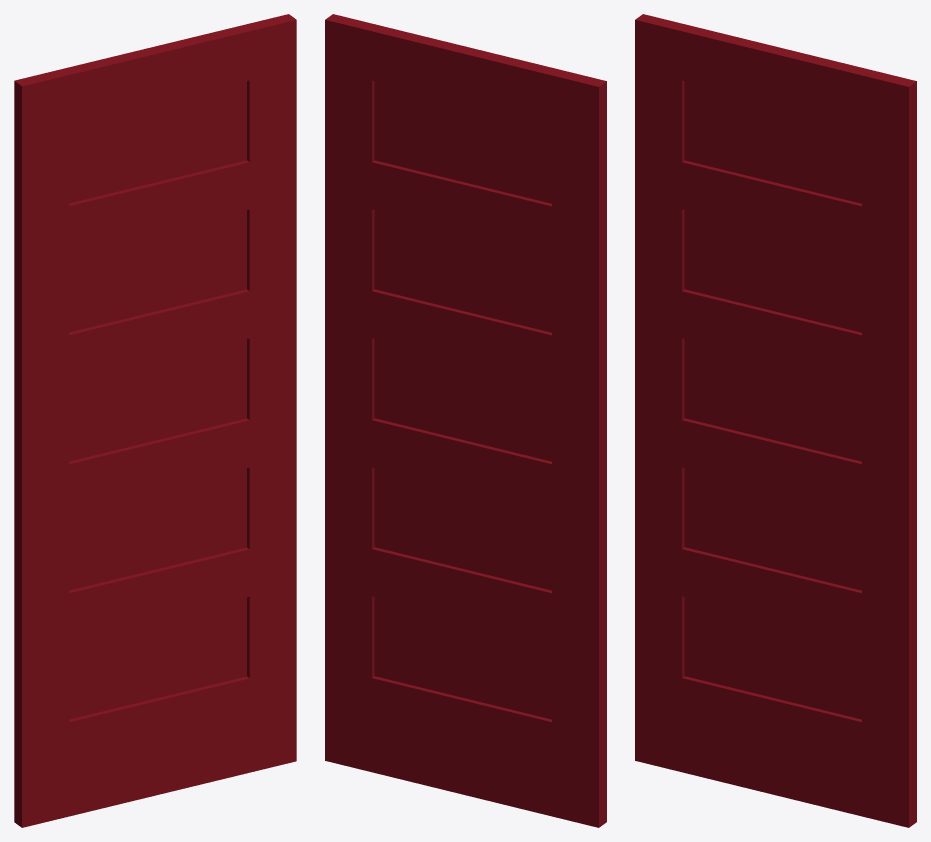
File: SimpleDoorSwinig_B03.fbx
3 renders of one model, left to right at view 1: azimuth 30°, elevation 25°; view 2: azimuth 150°, elevation 25°; view 3: azimuth 330°, elevation 25°, orthographic.
Visible parts, largest first — view 1: DoorPanel_01; view 2: DoorPanel_01; view 3: DoorPanel_01.
Part boxes in pixels (left/top/right/bottom): DoorPanel_01: left=14, top=14, right=296, bottom=827; DoorPanel_01: left=325, top=14, right=606, bottom=827; DoorPanel_01: left=635, top=14, right=916, bottom=827.
Bounding box in the file's own units: 27.56 × 1.44 × 71.18.
